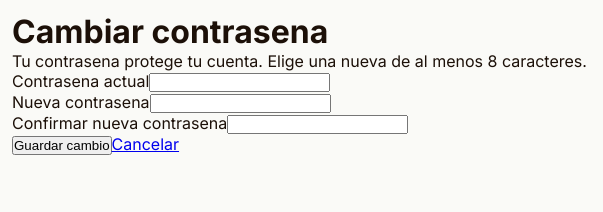
Test: ChangePasswordPage (UC-AUTH-08) › muestra error de contrasena actual incorrecta (Alt A)
Type "Wrong1!" into the password field labelled "Contrasena actual" at (240, 82), box [149,73,330,92]
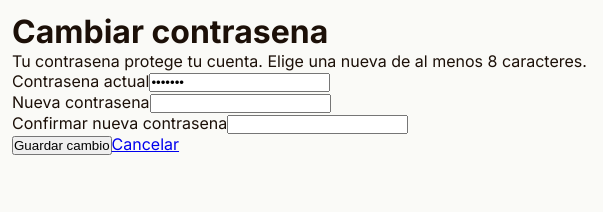
Type "NewPass1!" into the password field labelled "Nueva contrasena" at (240, 104), box [150,94,331,113]
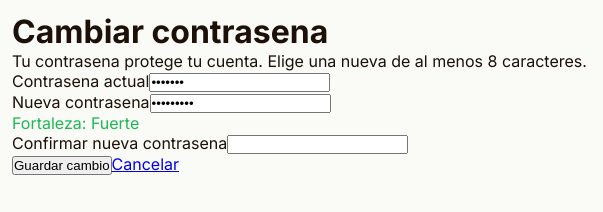
Type "NewPass1!" into the password field labelled "Confirmar nueva contrasena" at (318, 144), box [227,135,408,154]
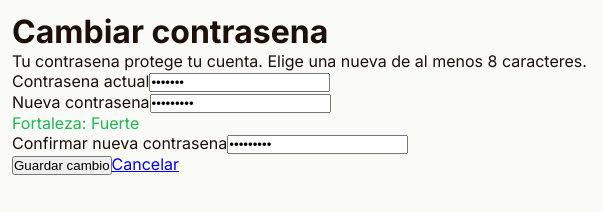
Click the button "Guardar cambio" at (62, 166), box [12,156,112,175]
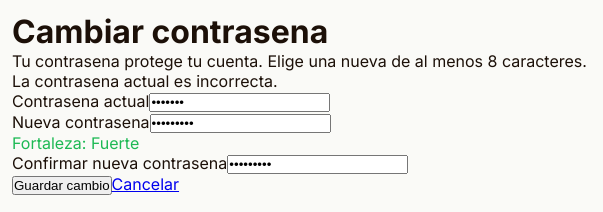
expect the text "La contrasena actual es incorrecta." is shown: met, box [12,71,278,91]
